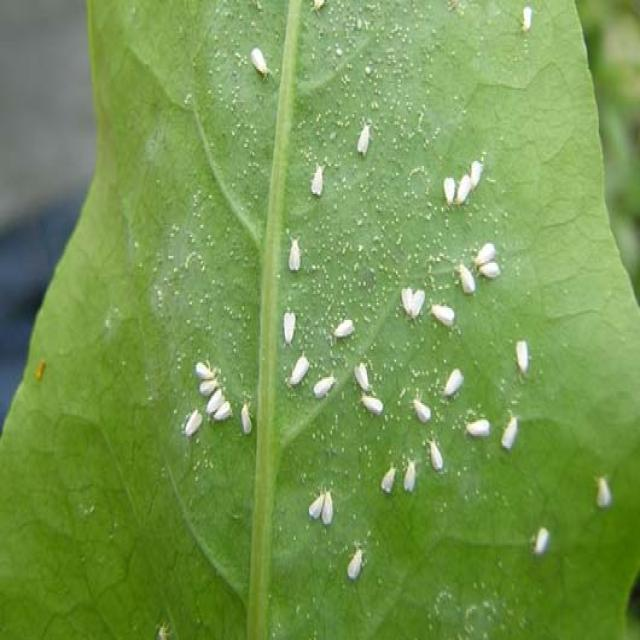AleurodicusDispersus: (173, 355, 262, 462), (445, 155, 489, 216), (302, 481, 344, 532), (275, 225, 314, 278), (242, 39, 282, 87), (436, 352, 472, 405), (393, 276, 430, 327), (348, 119, 393, 158), (588, 459, 618, 517), (472, 239, 507, 285), (306, 154, 336, 205), (404, 387, 440, 429), (451, 255, 484, 300), (374, 450, 402, 500), (512, 327, 534, 387), (398, 448, 423, 500), (349, 519, 368, 587), (423, 433, 448, 479), (281, 354, 311, 392), (328, 309, 361, 343), (280, 301, 304, 347), (316, 362, 340, 407), (434, 292, 459, 334), (352, 352, 376, 395), (502, 405, 522, 456), (460, 413, 496, 441), (532, 520, 554, 558), (515, 4, 539, 34)
